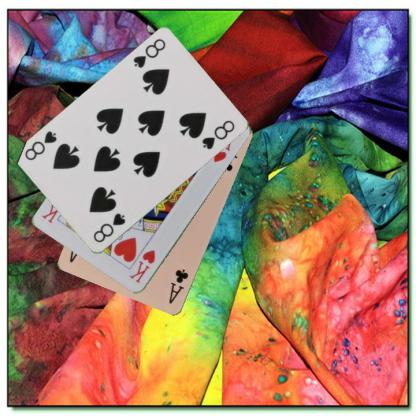8s: (130, 36, 167, 70), (90, 211, 127, 244)
Ac: (166, 266, 190, 306)
Kh: (127, 247, 157, 285)
